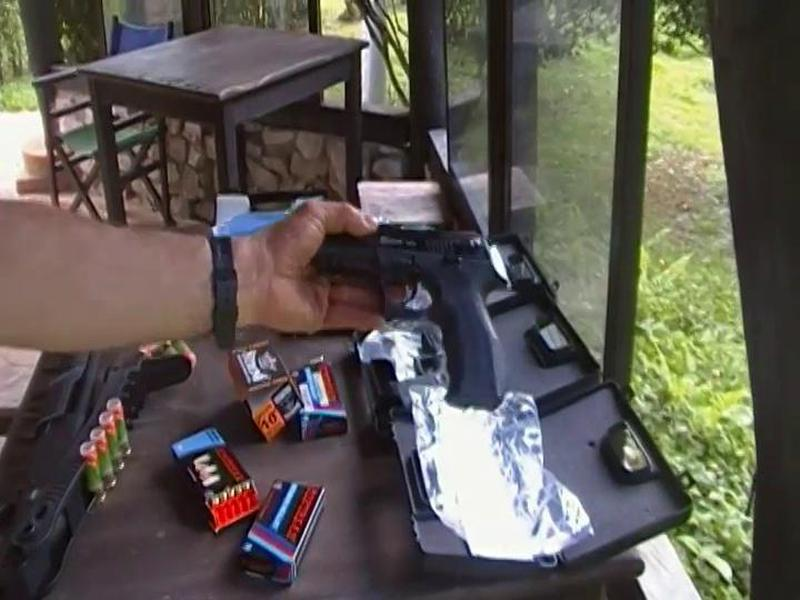Pistola: (277, 206, 542, 419)
